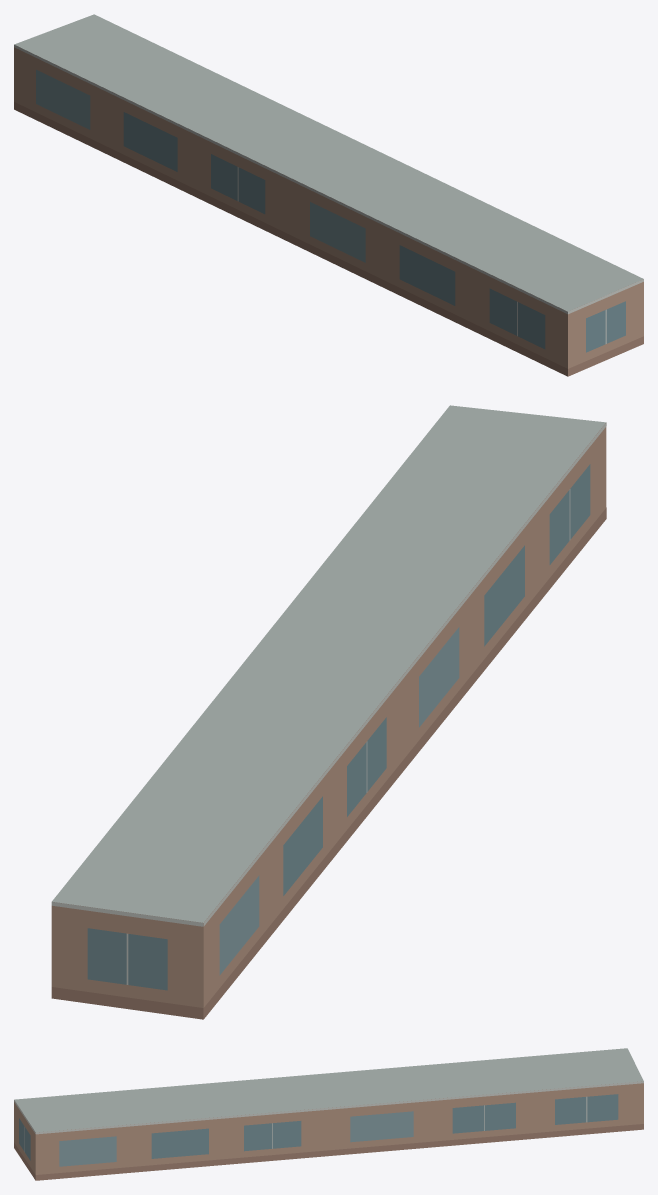
File: survey-upis-33025162.glb
3 views of the same model, one above another, from view 1: azimuth 30°, elevation 25°; view 2: azimuth 150°, elevation 25°; view 3: azimuth 270°, elevation 25° (orthographic). The views are drawn at different scales.
Parts seen in each view (by area): view 1: survey-upis-33025162.tmp; view 2: survey-upis-33025162.tmp; view 3: survey-upis-33025162.tmp.
Boxes of the visible parts, left/top/right/bottom form: survey-upis-33025162.tmp: left=14, top=14, right=643, bottom=376; survey-upis-33025162.tmp: left=51, top=405, right=606, bottom=1019; survey-upis-33025162.tmp: left=14, top=1048, right=643, bottom=1180.
Size of the model in its own units: 11.41 by 3.05 by 36.02.
